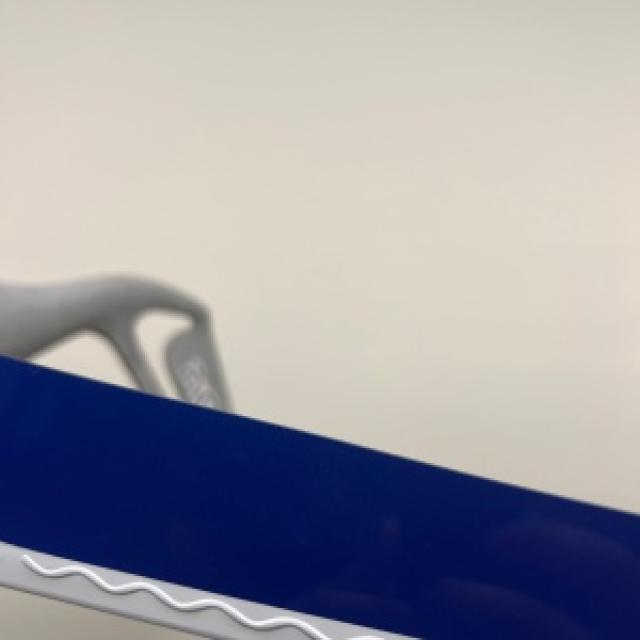healthy: (0, 275, 638, 638)
